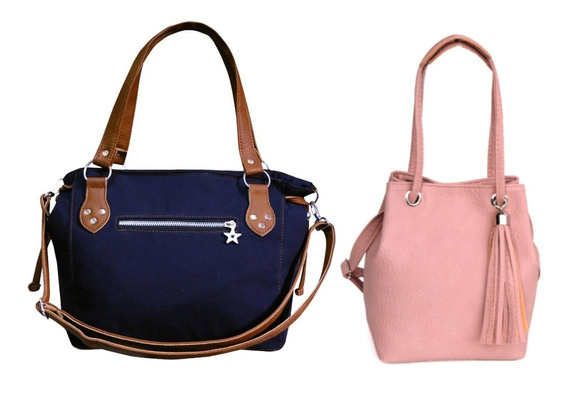cartera: (32, 21, 338, 360), (342, 34, 542, 365)
